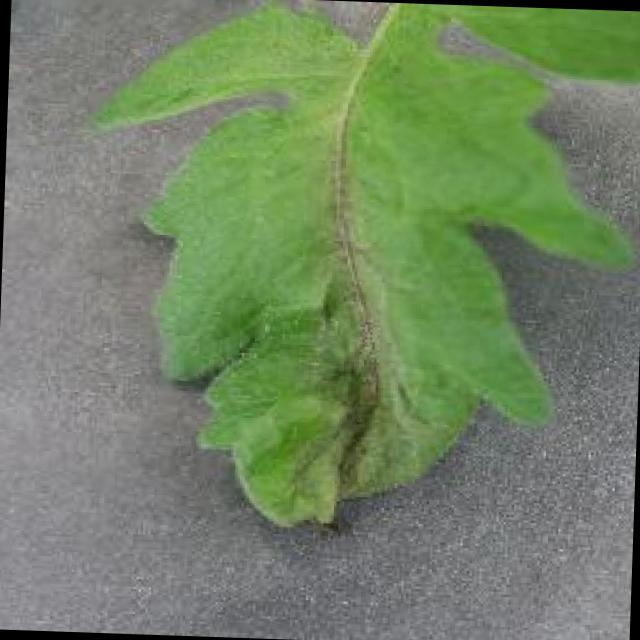Tomato_Late_Blight: (236, 262, 447, 488)
